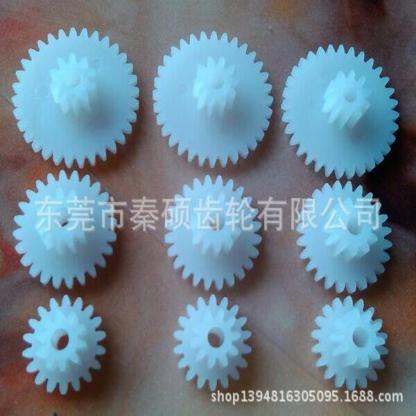FOD: (10, 24, 140, 167), (148, 29, 274, 171), (280, 38, 402, 182), (11, 166, 121, 296), (164, 173, 265, 292), (295, 180, 396, 296), (20, 292, 108, 396), (170, 291, 254, 395), (310, 292, 390, 394)
